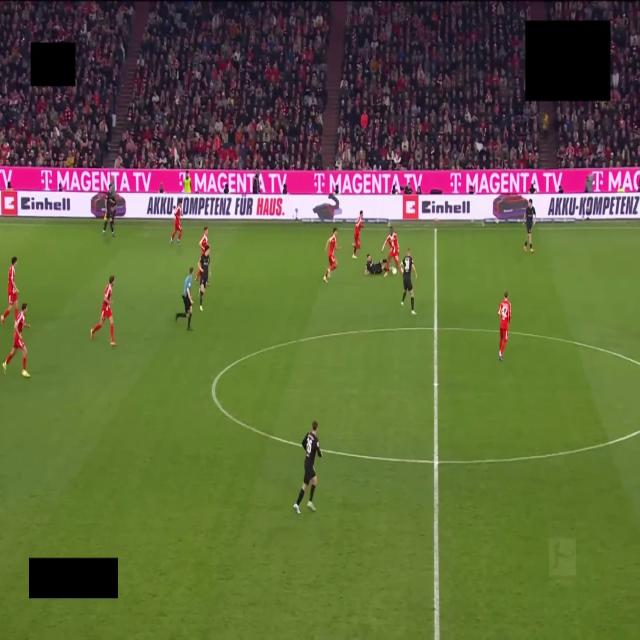ball: (390, 266, 396, 275)
player: (294, 421, 321, 513), (2, 304, 30, 377), (91, 276, 116, 346), (0, 256, 18, 324), (400, 248, 416, 314), (498, 291, 511, 360), (381, 227, 399, 276), (103, 180, 116, 237), (324, 228, 337, 282), (199, 247, 209, 311), (524, 200, 535, 253), (171, 198, 182, 244), (353, 211, 362, 258), (365, 255, 386, 274), (199, 227, 208, 255)
referee: (176, 267, 193, 330)
